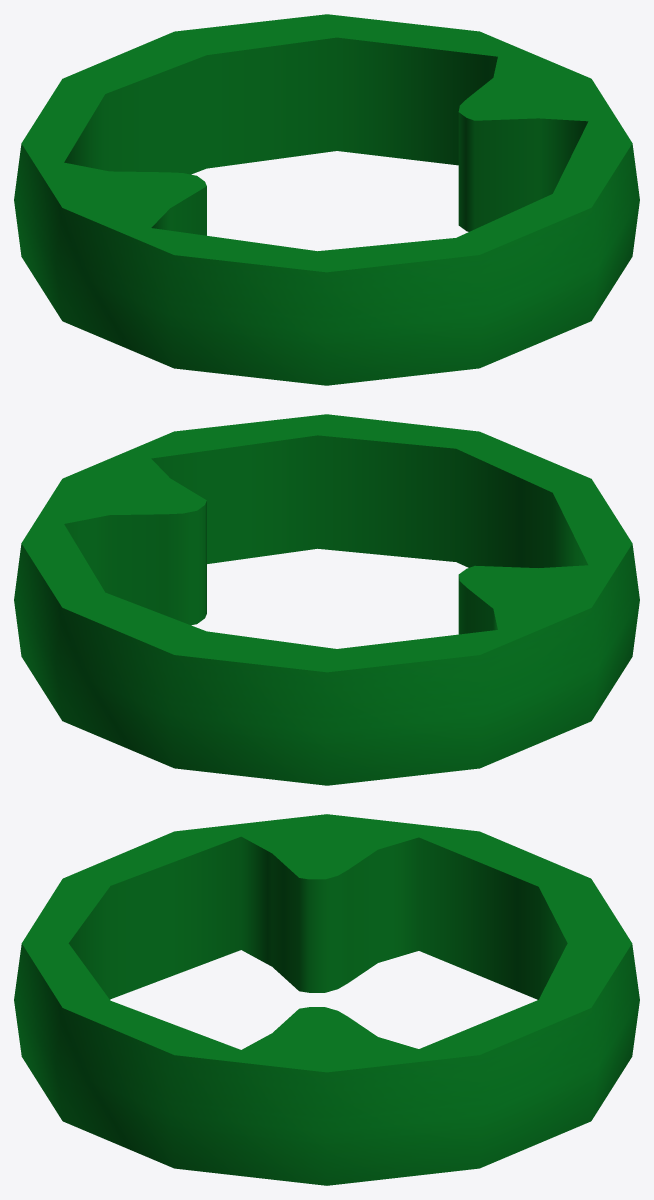
Rendered from Hot_peper_green_slice.fbx.
The picture shows the model from 3 angles, top to bottom: view 1: azimuth 30°, elevation 25°; view 2: azimuth 150°, elevation 25°; view 3: azimuth 270°, elevation 25°; orthographic projection.
Visible parts, largest first — view 1: Hot_peper_green_slice; view 2: Hot_peper_green_slice; view 3: Hot_peper_green_slice.
Boxes of the visible parts, left/top/right/bottom form: Hot_peper_green_slice: left=14, top=14, right=639, bottom=385; Hot_peper_green_slice: left=14, top=414, right=639, bottom=785; Hot_peper_green_slice: left=14, top=814, right=639, bottom=1185.
Bounding box in the file's own units: 36.8 × 36.8 × 7.36.
